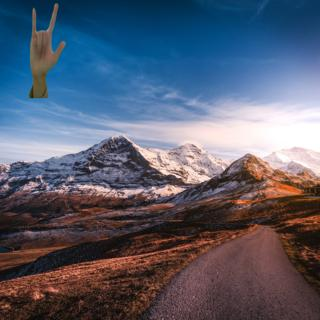ILY: (27, 1, 67, 79)
